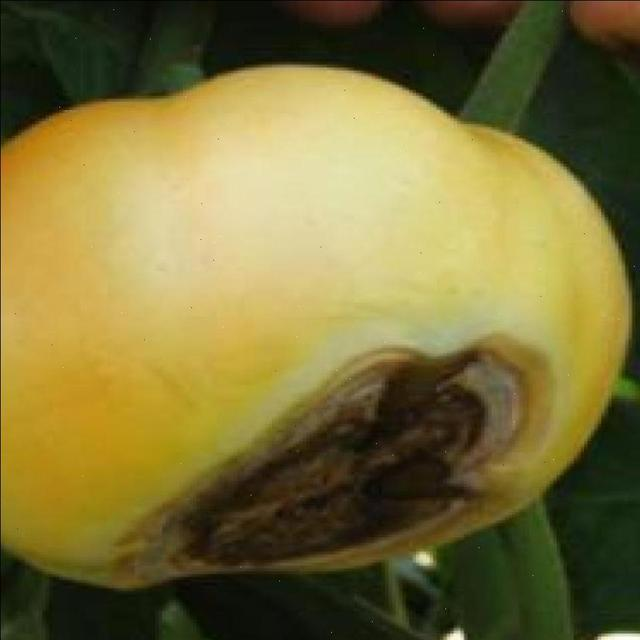Blossom End Rot Fruit: (72, 220, 365, 384)
